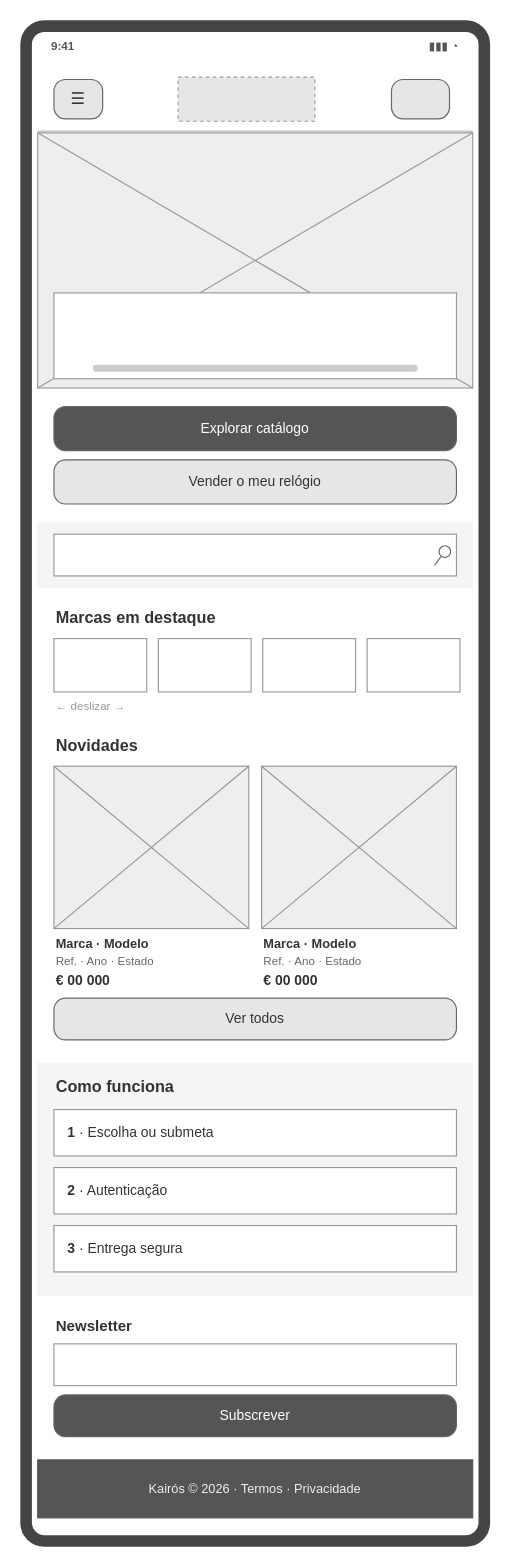
This 509x1566 diagram has some shape labels left out. Grey dashed boxes stand in for pictures. The shapes that lost their labels are listed below. From the top down, each one's centre as x and y in pixels, then its label:
the point at 419,98: Pesq.
the point at 254,335: O momento certo para cada relógio
the point at 254,554: Pesquisar marca, modelo, ref.…
the point at 254,1364: email@exemplo.pt
